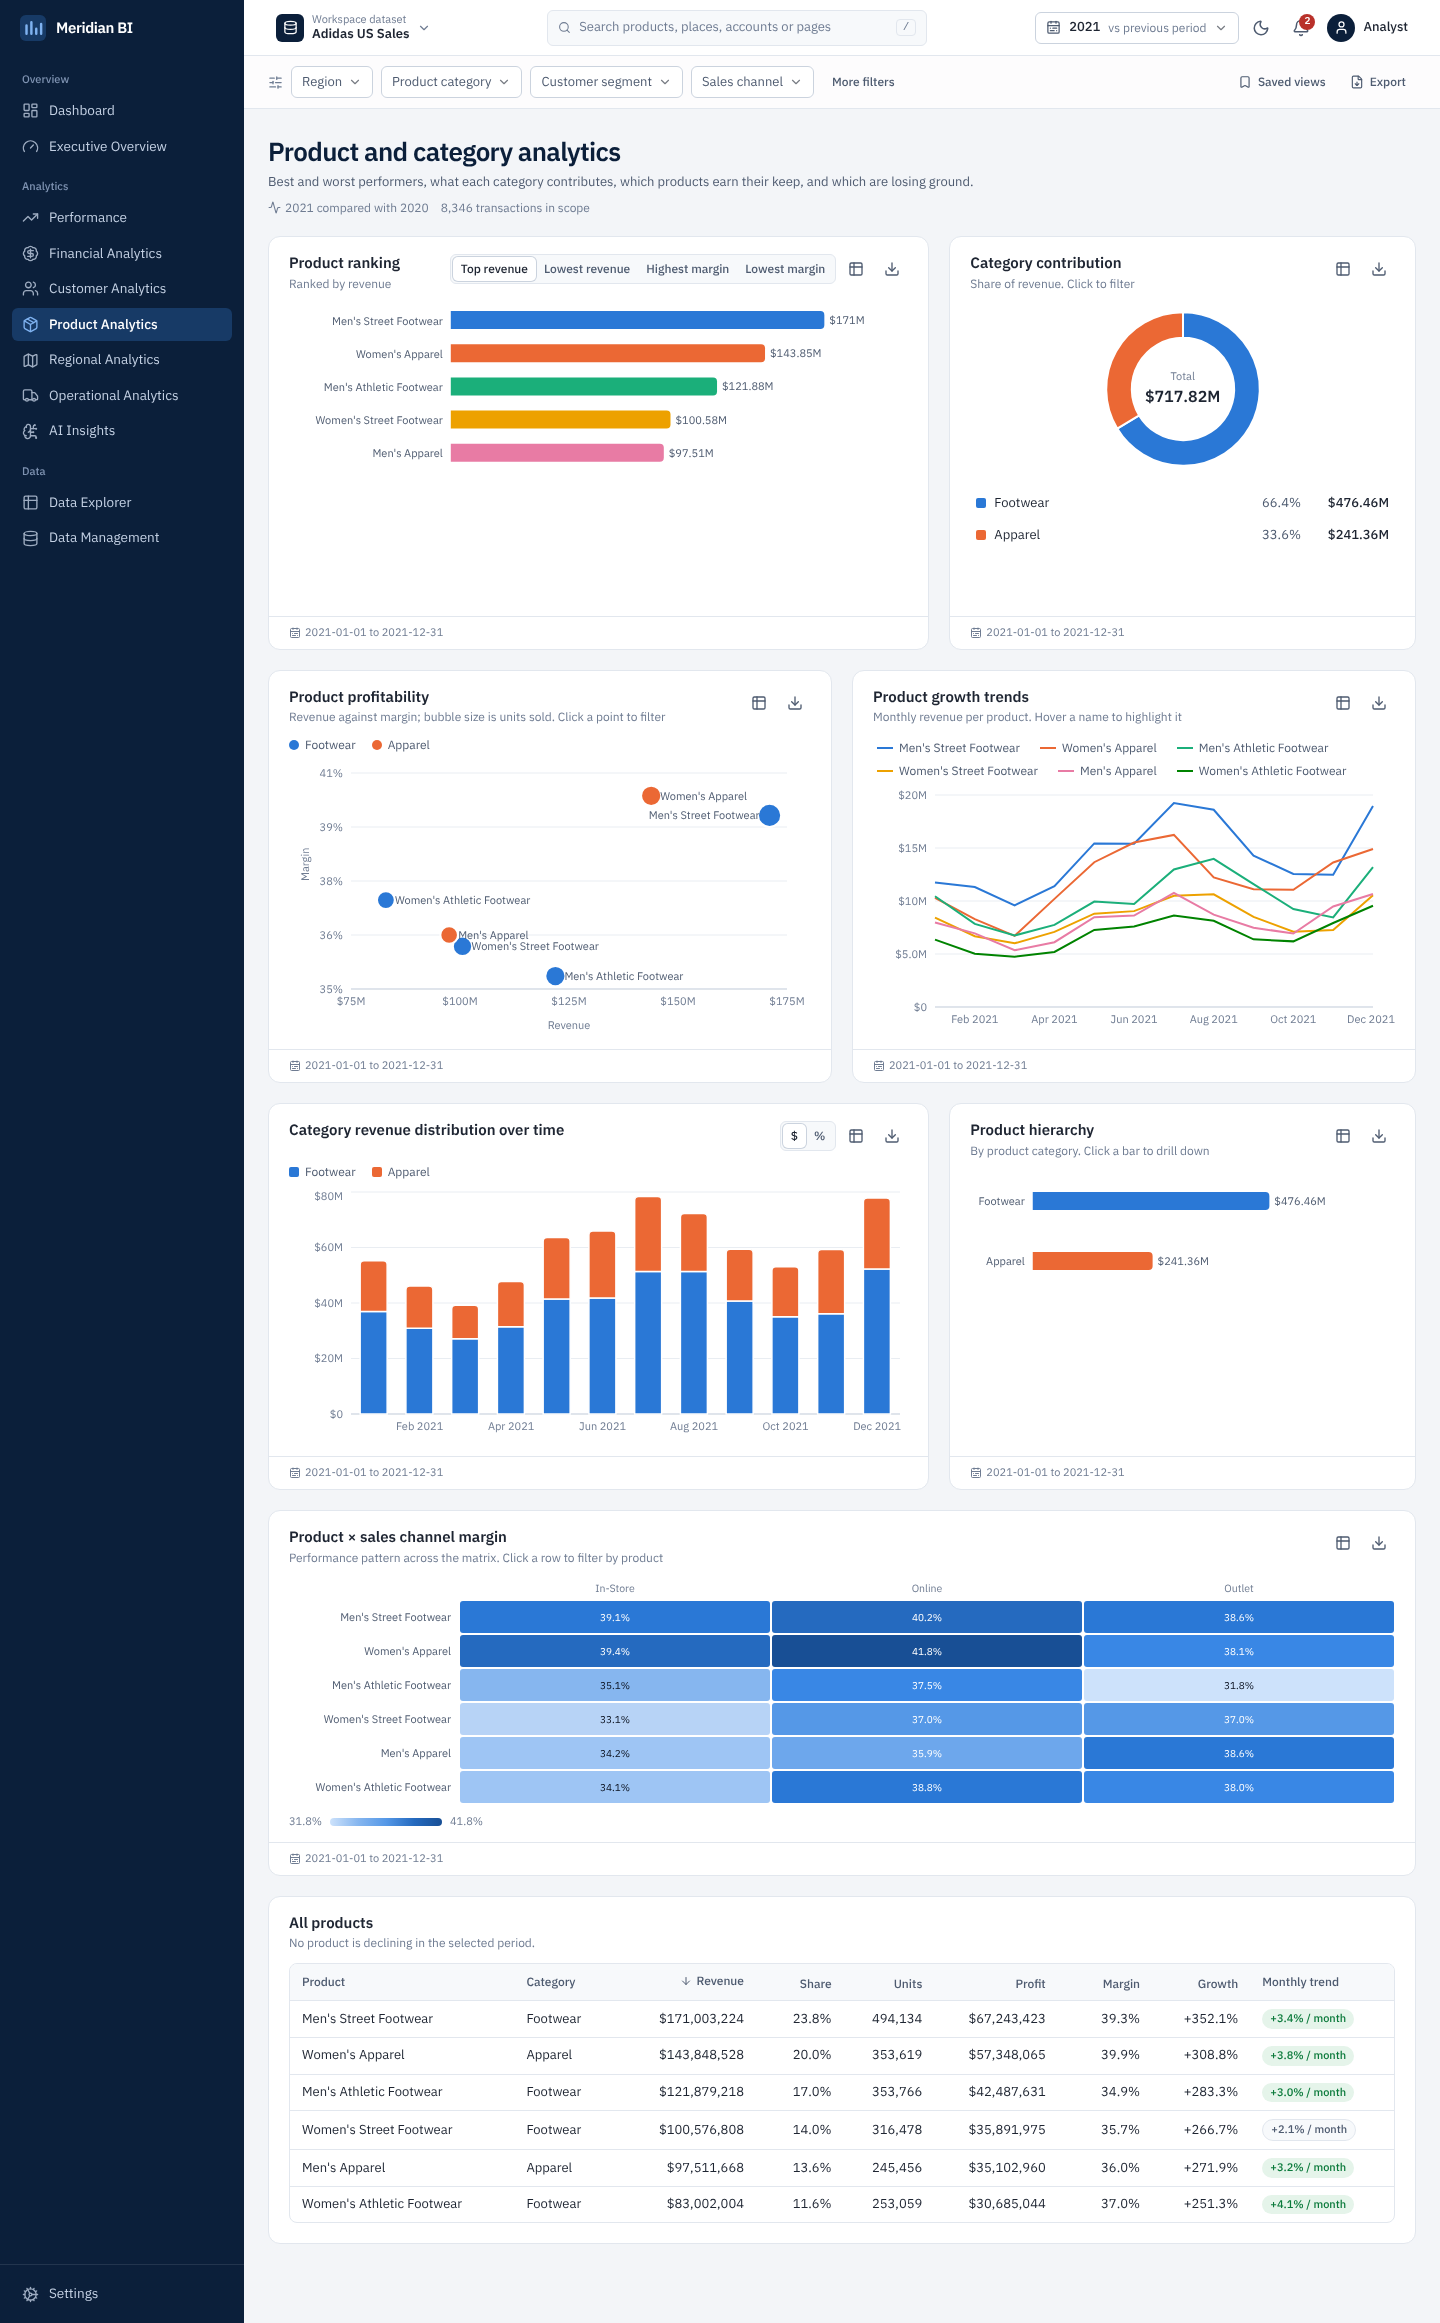

What the dashboard file says about the page in this screenshot:
{"tool":"powerbi","page":{"name":"Product Analytics","canvas":[1280,720],"ordinal":2},"visuals":[{"type":"textbox","box":[0,0,1280,64],"z":1000},{"type":"slicer","fields":{"Values":["Calendar.Year"]},"box":[16,72,200,52],"z":2000},{"type":"slicer","fields":{"Values":["Geography.Region"]},"box":[224,72,200,52],"z":3000},{"type":"slicer","fields":{"Values":["Product.Product Category"]},"box":[432,72,200,52],"z":4000},{"type":"slicer","fields":{"Values":["Product.Gender"]},"box":[640,72,200,52],"z":5000},{"type":"slicer","fields":{"Values":["Sales Method.Sales Method"]},"box":[848,72,200,52],"z":6000},{"type":"slicer","fields":{"Values":["Retailer.Retailer"]},"box":[1056,72,200,52],"z":7000},{"type":"clusteredBarChart","title":"Revenue by product (best to worst)","fields":{"Category":["Product.Product"],"Y":["_Measures.Total Revenue"]},"box":[16,136,500,270],"z":8000},{"type":"donutChart","title":"Category contribution","fields":{"Category":["Product.Product Category"],"Y":["_Measures.Total Revenue"]},"box":[528,136,360,270],"z":9000},{"type":"clusteredBarChart","title":"Operating margin by product type","fields":{"Category":["Product.Product Type"],"Y":["_Measures.Operating Margin"]},"box":[900,136,364,270],"z":10000},{"type":"scatterChart","title":"Product profitability: revenue vs margin (bubble = units)","fields":{"Category":["Product.Product"],"Size":["_Measures.Units Sold"],"X":["_Measures.Total Revenue"],"Y":["_Measures.Operating Margin"]},"box":[16,418,500,286],"z":11000},{"type":"lineChart","title":"Product revenue trend by month","fields":{"Category":["Calendar.Year Month"],"Series":["Product.Product"],"Y":["_Measures.Total Revenue"]},"box":[528,418,736,286],"z":12000}]}

Visuals, with their boxes on the page's 1280x720 design canvas (x1, y1, x2, y2). These are canvas units, not pixel positions in the 1440x2323 screenshot, which may show the page scaled, cropped or inside an application window:
textbox: 0:0:1280:64
slicer - Calendar.Year: 16:72:216:124
slicer - Geography.Region: 224:72:424:124
slicer - Product.Product Category: 432:72:632:124
slicer - Product.Gender: 640:72:840:124
slicer - Sales Method.Sales Method: 848:72:1048:124
slicer - Retailer.Retailer: 1056:72:1256:124
"Revenue by product (best to worst)" clusteredBarChart: 16:136:516:406
"Category contribution" donutChart: 528:136:888:406
"Operating margin by product type" clusteredBarChart: 900:136:1264:406
"Product profitability: revenue vs margin (bubble = units)" scatterChart: 16:418:516:704
"Product revenue trend by month" lineChart: 528:418:1264:704
